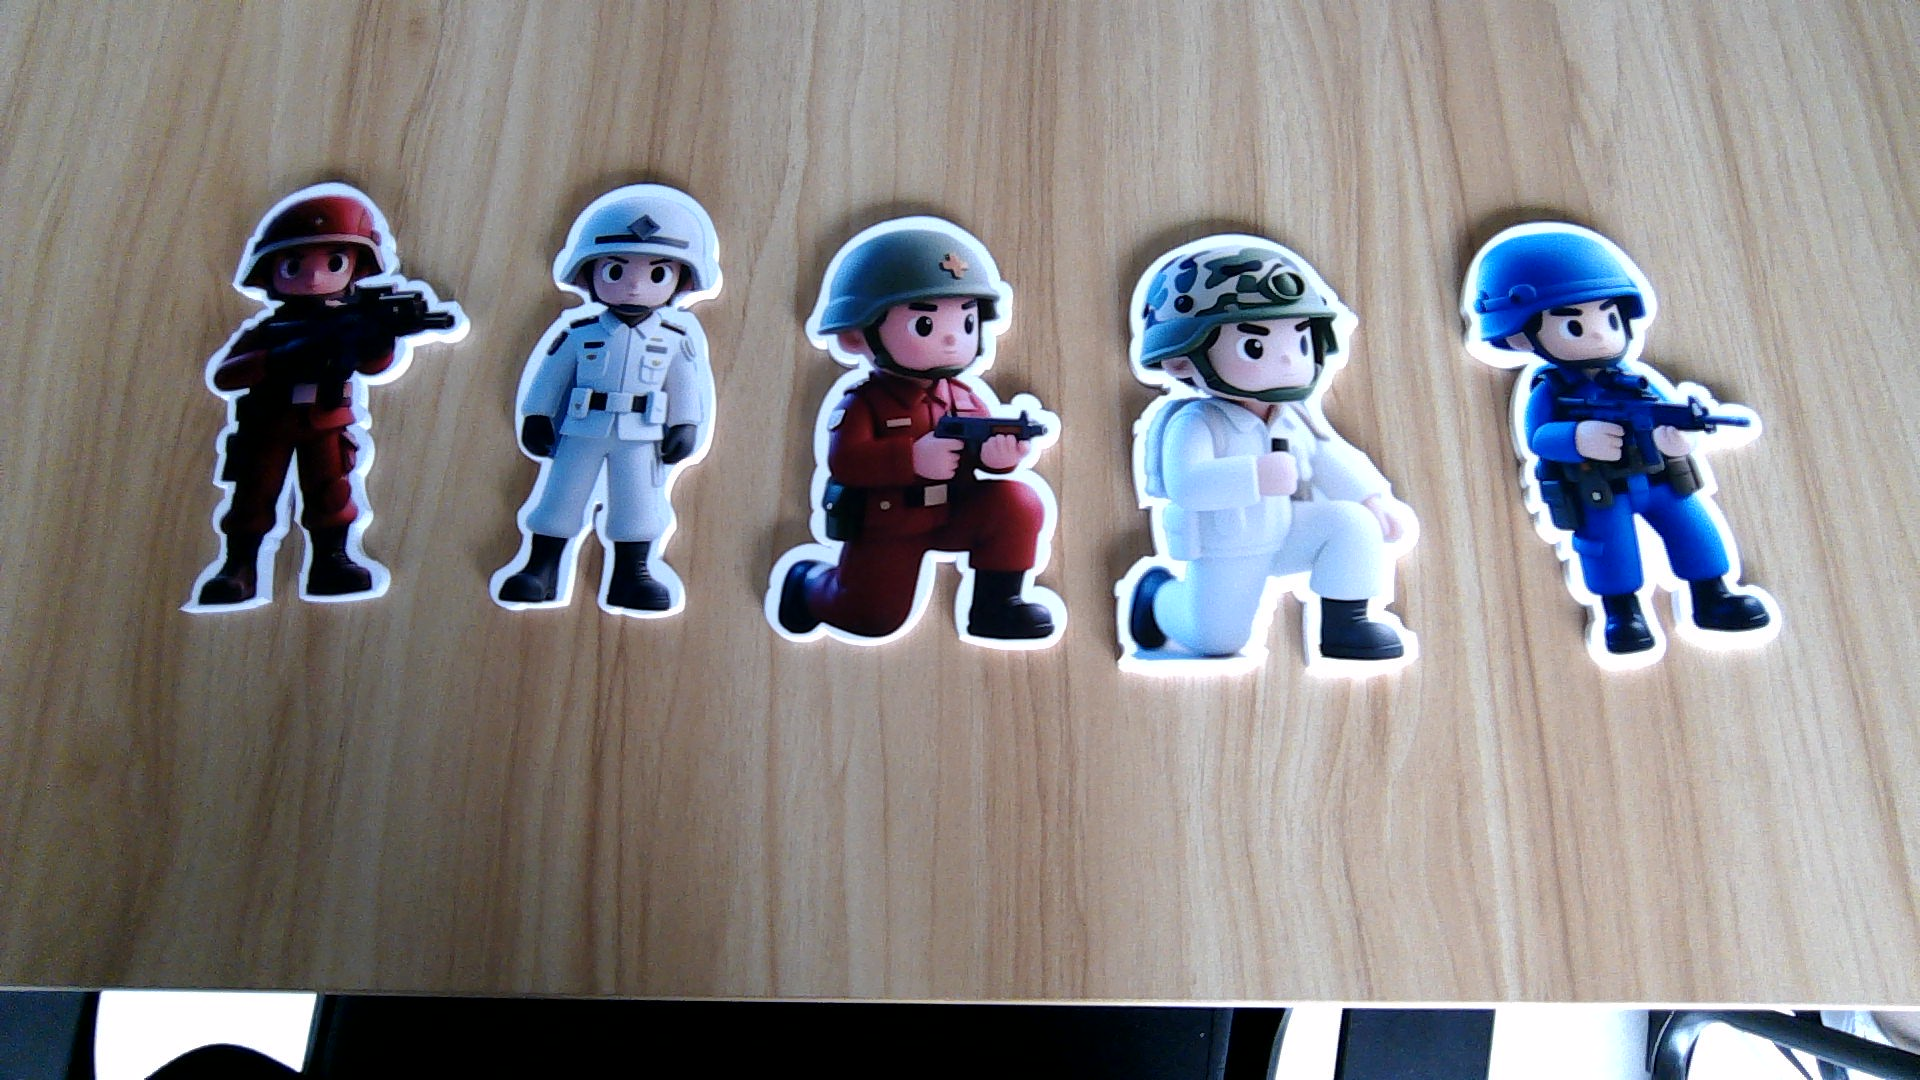人质: (1109, 402, 1429, 694), (483, 309, 713, 618)
敌人1: (764, 375, 1067, 673), (173, 297, 448, 609)
敌人2: (1499, 363, 1793, 669)
